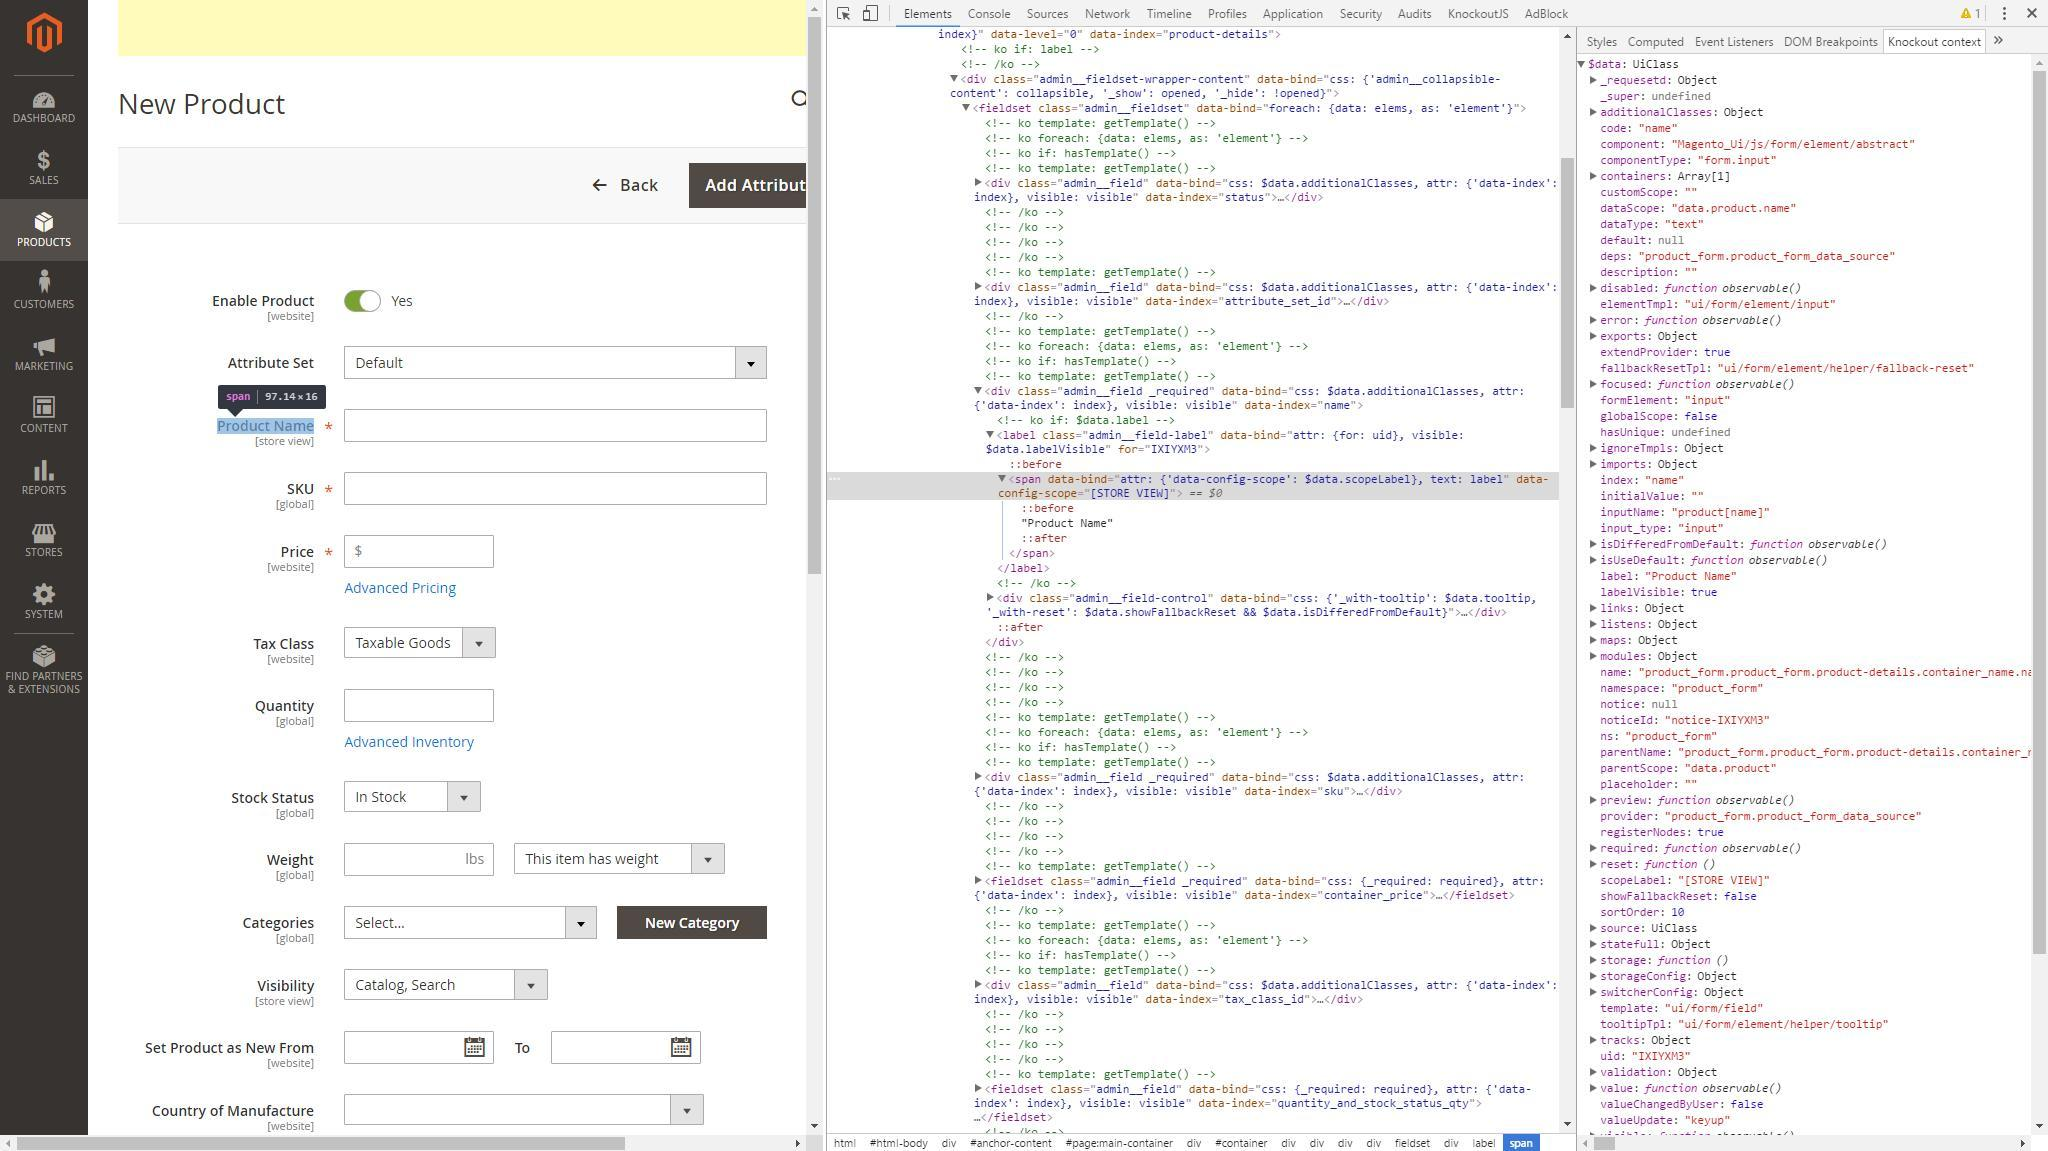button: (691, 165, 809, 210), (617, 908, 769, 941)
dropdown: (346, 346, 768, 380), (345, 1095, 708, 1128), (346, 908, 598, 939), (345, 969, 549, 1000), (515, 846, 726, 875), (345, 628, 497, 659), (345, 782, 482, 813)
icon: (25, 644, 60, 673), (31, 583, 63, 611), (27, 395, 62, 419), (28, 89, 62, 113), (30, 460, 59, 487), (32, 333, 65, 357), (28, 521, 59, 545), (32, 210, 56, 236), (31, 146, 53, 174), (34, 269, 56, 295), (589, 174, 612, 198)
input: (345, 409, 768, 443), (346, 476, 769, 505), (345, 689, 495, 722), (345, 844, 495, 877), (345, 1031, 495, 1064), (551, 1033, 702, 1065), (345, 538, 495, 568)
label: (143, 1038, 316, 1078), (143, 1102, 321, 1136), (208, 290, 321, 328), (212, 416, 318, 454), (229, 787, 319, 825), (241, 913, 316, 948), (250, 698, 318, 735), (250, 979, 319, 1013), (252, 637, 316, 673), (3, 671, 86, 695), (226, 356, 316, 376), (267, 480, 315, 514), (263, 854, 315, 885), (270, 545, 316, 575), (15, 235, 75, 250), (14, 360, 75, 374), (14, 298, 76, 311), (14, 115, 76, 127), (20, 422, 70, 435), (20, 485, 69, 498), (24, 609, 65, 623), (24, 547, 68, 560), (30, 174, 58, 189)
switch: (345, 293, 384, 314)
